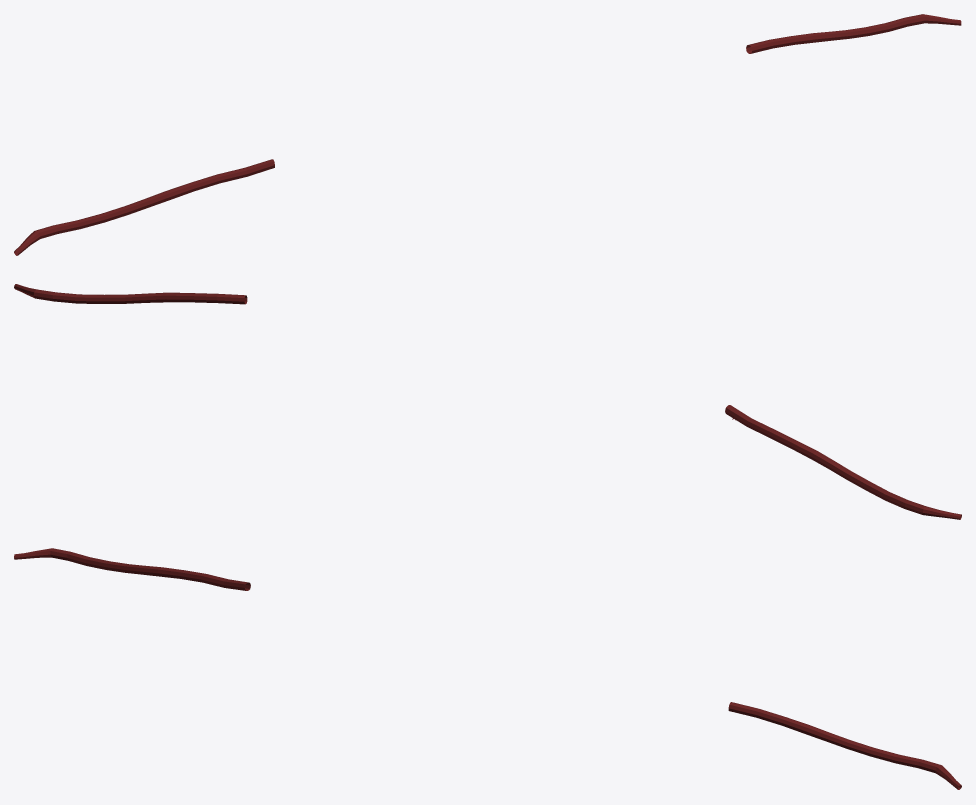
Rendered from Artéria Braquial.FBX.
3 renders of one model, top to bottom at view 1: azimuth 30°, elevation 25°; view 2: azimuth 150°, elevation 25°; view 3: azimuth 330°, elevation 25°, orthographic.
Visible parts, largest first — view 1: CS_Arterie; view 2: CS_Arterie; view 3: CS_Arterie.
Part boxes in pixels (left/top/right/bottom): CS_Arterie: left=14, top=14, right=961, bottom=255; CS_Arterie: left=14, top=284, right=961, bottom=519; CS_Arterie: left=14, top=548, right=961, bottom=789.
Size of the model in its own units: 2871 by 133 by 131.
